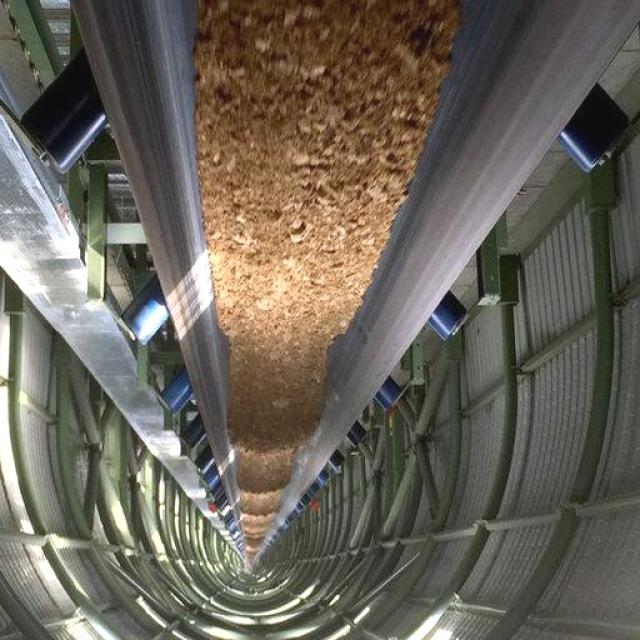conveyor: (87, 6, 640, 569)
